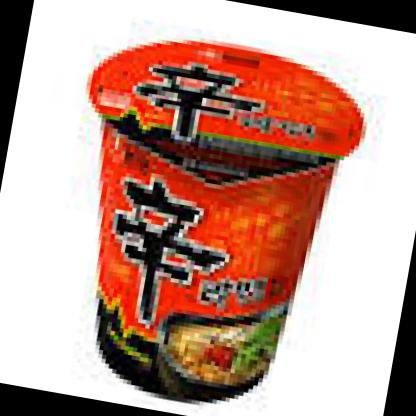Ramen: (34, 12, 362, 416)
